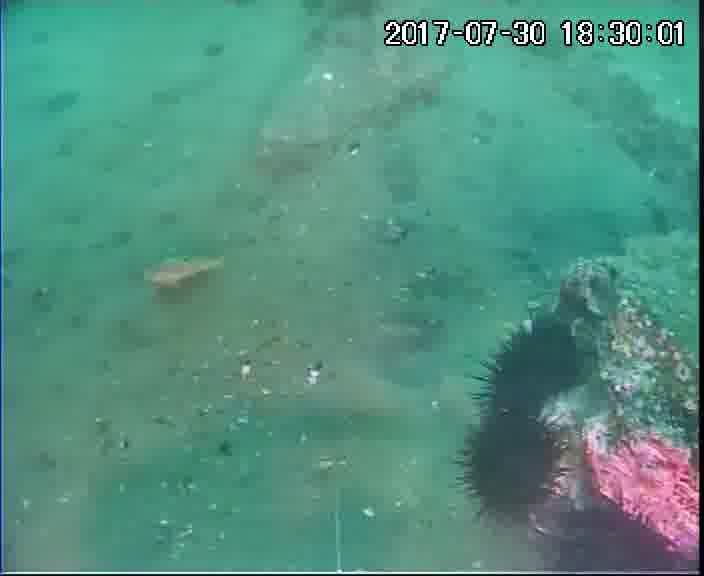echinus: (473, 312, 586, 418), (460, 414, 565, 523), (549, 500, 684, 576)
